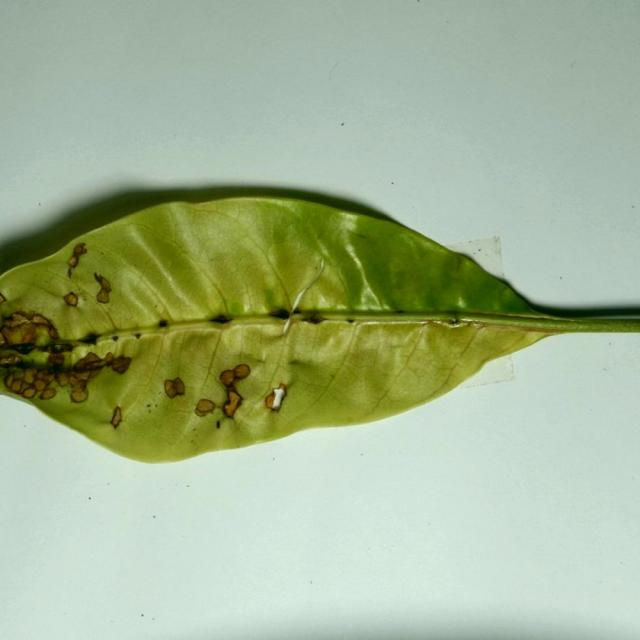Anthracnose: (254, 257, 322, 424), (193, 362, 253, 431), (57, 352, 127, 403), (66, 245, 113, 308), (0, 310, 59, 348), (3, 368, 57, 401), (138, 389, 180, 424), (219, 363, 251, 388), (65, 242, 87, 278), (73, 352, 106, 372), (264, 383, 286, 412), (2, 324, 28, 346), (163, 377, 186, 398), (110, 355, 132, 374), (194, 399, 216, 417), (69, 376, 88, 393), (0, 353, 23, 366), (70, 388, 89, 403), (110, 406, 122, 429), (79, 333, 102, 345), (48, 352, 66, 367), (269, 309, 292, 320), (10, 312, 31, 324), (73, 370, 92, 383), (302, 315, 326, 325), (4, 317, 24, 329), (22, 367, 38, 382), (35, 370, 52, 384), (63, 292, 78, 307), (4, 373, 16, 390), (211, 314, 233, 323), (10, 378, 24, 392), (73, 242, 87, 255), (219, 370, 232, 383), (276, 382, 287, 395), (0, 332, 7, 346), (448, 318, 461, 325), (158, 319, 168, 328), (0, 291, 6, 305), (67, 266, 73, 278), (346, 318, 356, 323), (134, 333, 142, 339), (216, 420, 221, 429), (112, 335, 119, 341)
Mango: (0, 184, 639, 467)
